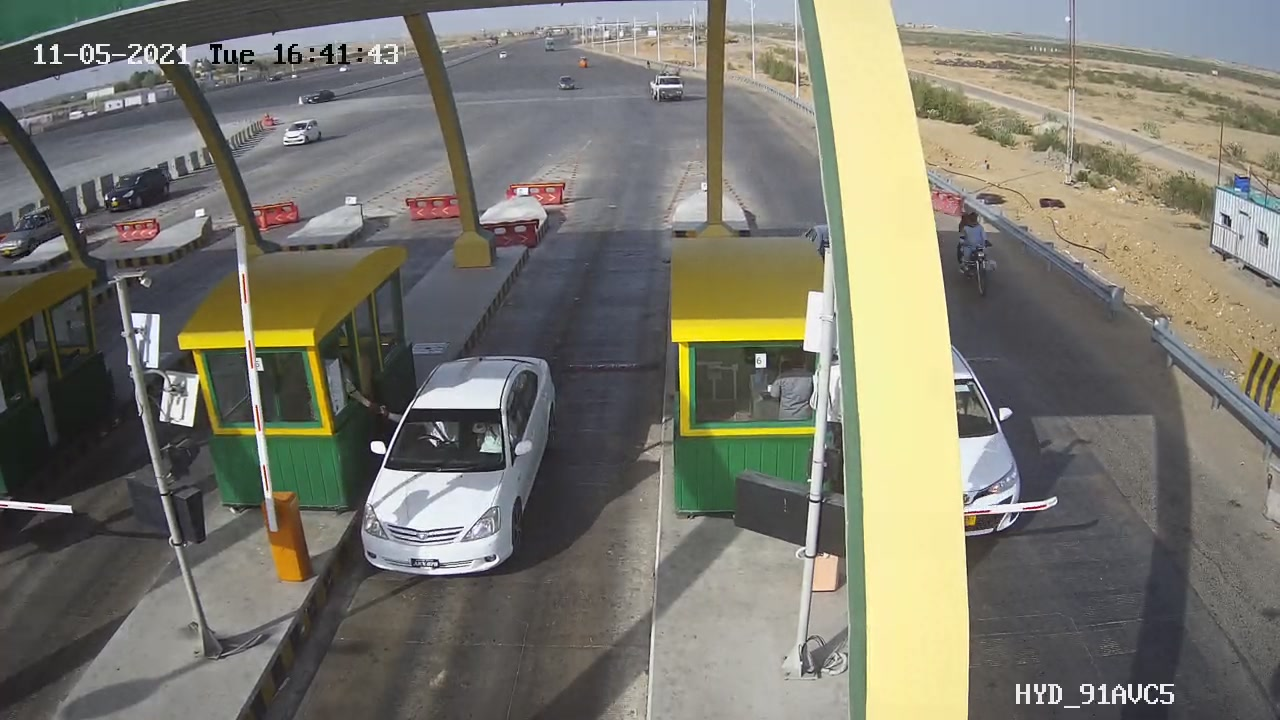F1: (336, 334, 583, 598)
